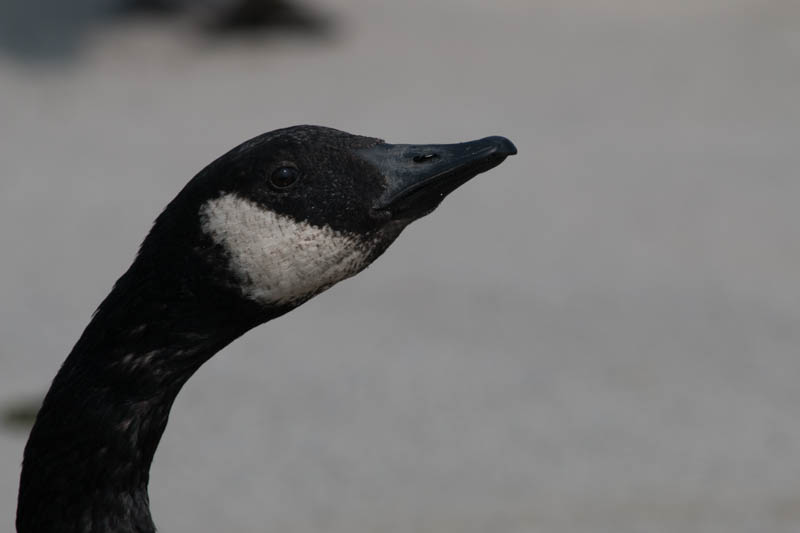goose-head: (166, 124, 519, 320)
